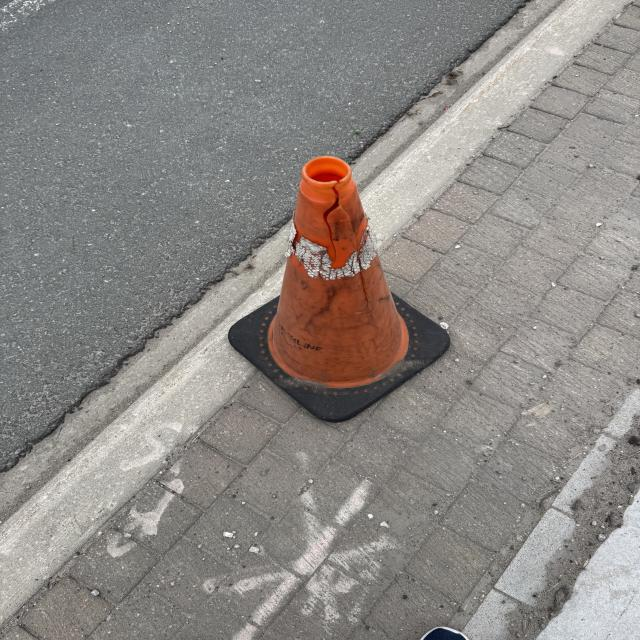Traffic Cone: (227, 153, 457, 424)
